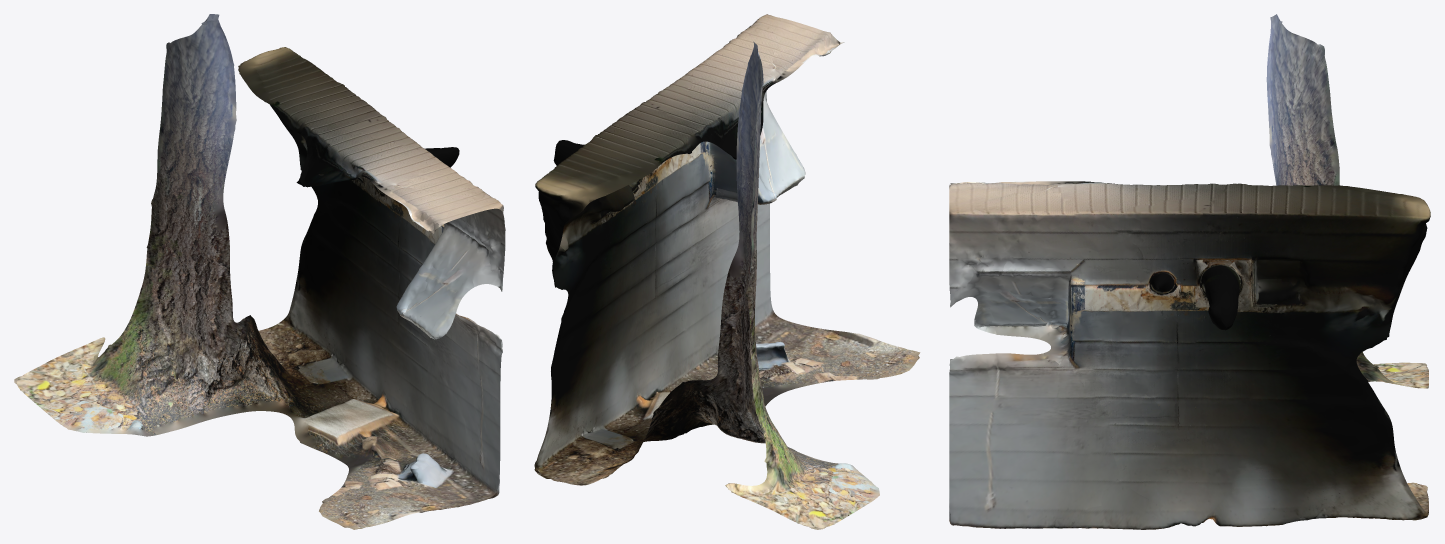
3 renders of one model, left to right at view 1: azimuth 30°, elevation 25°; view 2: azimuth 150°, elevation 25°; view 3: azimuth 270°, elevation 25°, orthographic. The views are drawn at different scales.
Parts seen in each view (by area): view 1: Object_1, Object_2; view 2: Object_1, Object_2; view 3: Object_1, Object_2.
Boxes of the visible parts, <box> form: Object_1: <box>14,14,502,529</box>; Object_2: <box>283,123,505,529</box>; Object_1: <box>534,20,919,529</box>; Object_2: <box>546,14,919,406</box>; Object_1: <box>949,14,1430,529</box>; Object_2: <box>949,181,1403,528</box>.
Bounding box in the file's own units: 2.94 × 3.27 × 3.21.
Materials: 2 (2 with a texture image).
